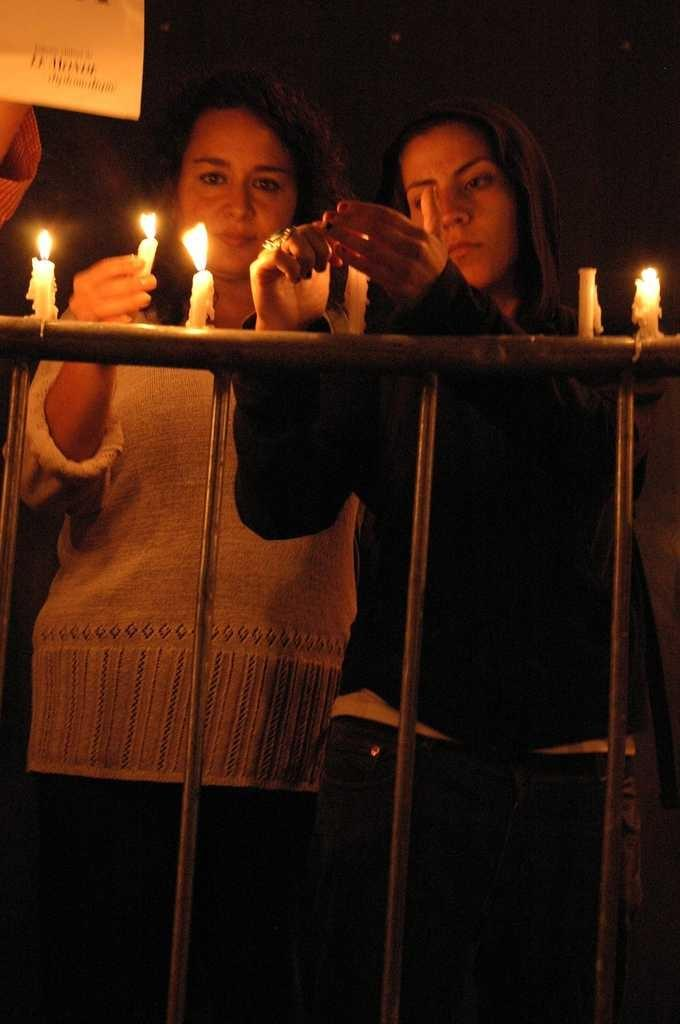fire: (632, 265, 660, 310), (185, 222, 210, 265), (132, 212, 168, 235), (35, 235, 55, 255)
